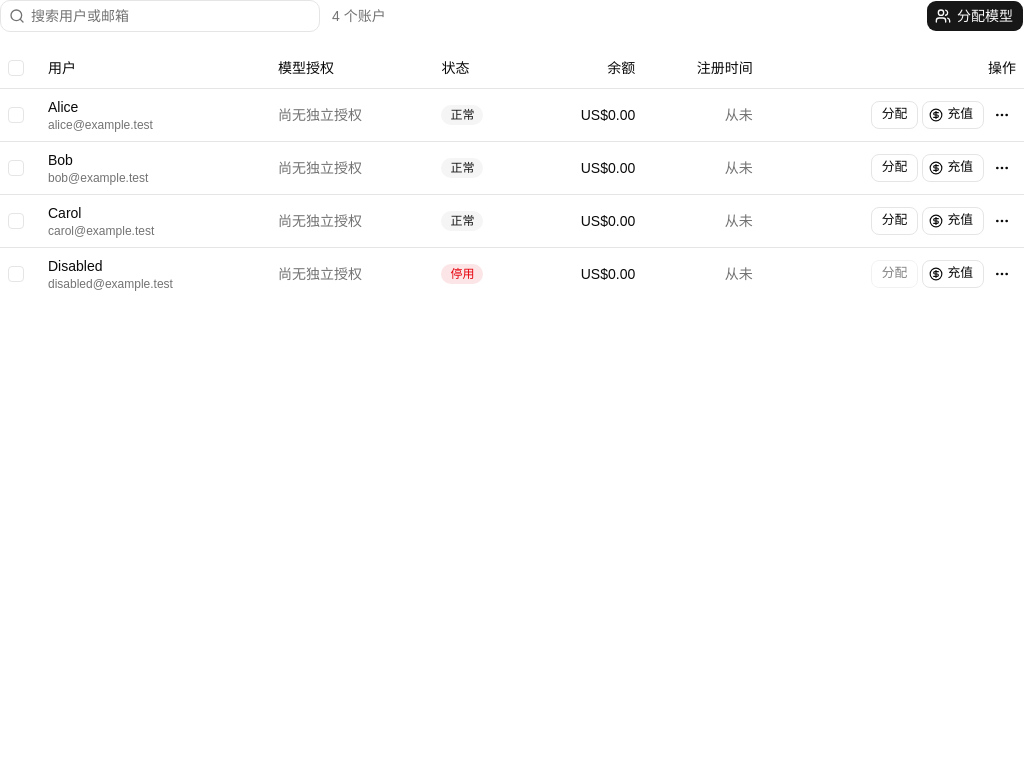
Test: user assignment › opens assignment directly from selected users
The width and height of the screenshot is (1024, 768).
Click the checkbox named "选择 Alice": click(16, 114) [8,106,24,122]
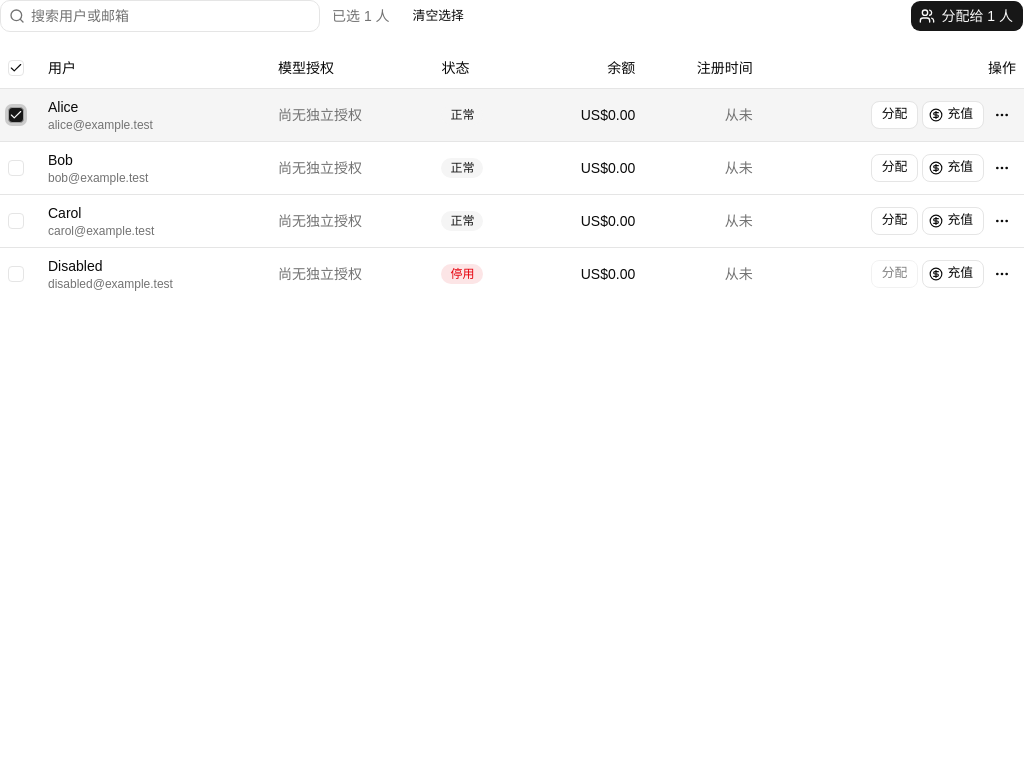
Click the checkbox named "选择 Bob": click(16, 168) [8,160,24,176]
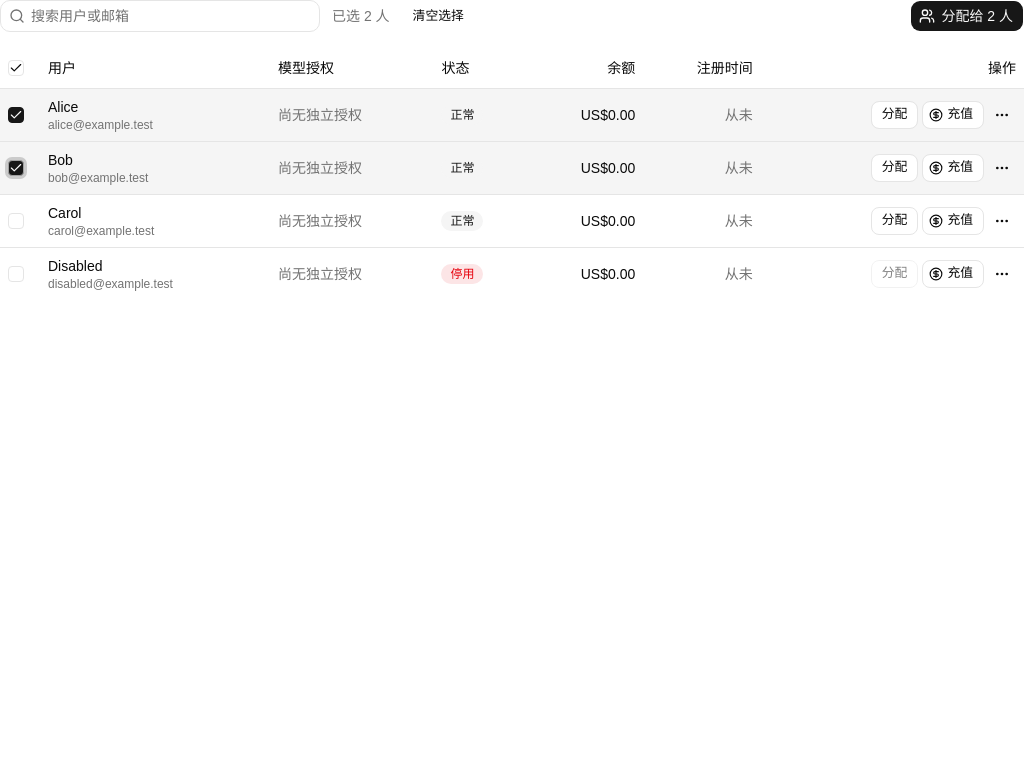
Click the button "分配给 2 人": click(967, 16) [910,0,1023,32]
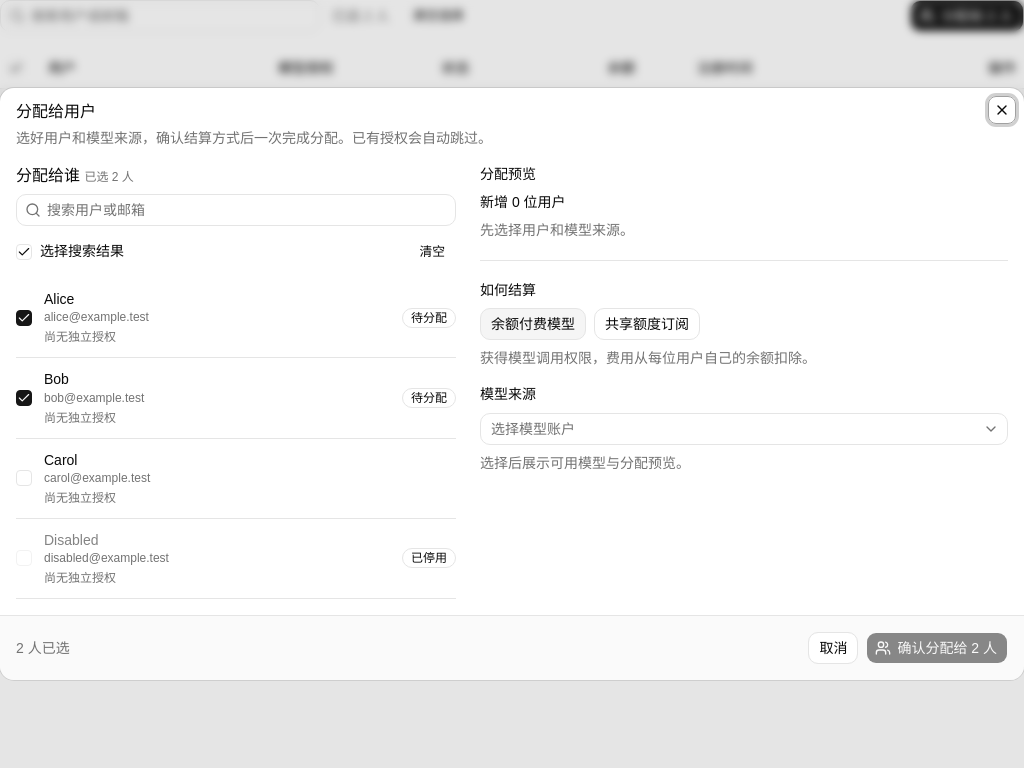
Expected: the checkbox named "选择 Alice" is checked, [16,310,32,326]
Expected: the checkbox named "选择 Bob" is checked, [16,390,32,406]
